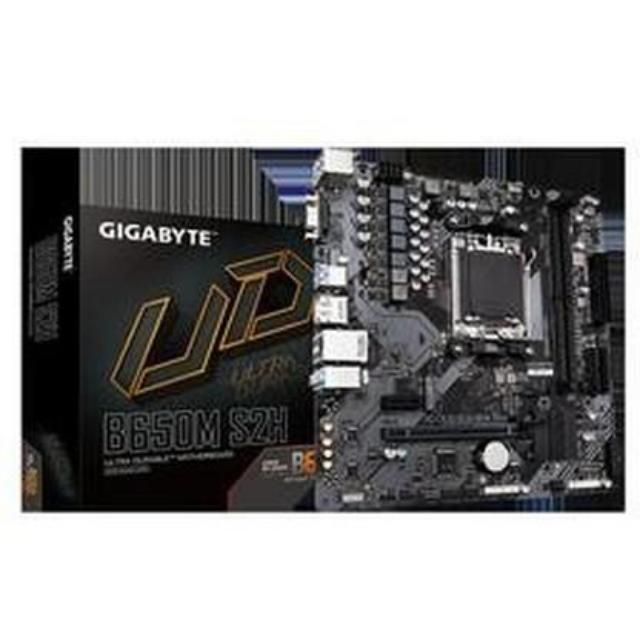Mainboard: (297, 150, 625, 518)
